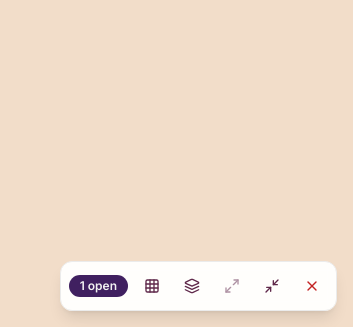
it: CardControlBar › should show stack management dropdown with group options when clicked
This screenshot has width=353, height=327.
Step 1. Click the button titled "manage stacks" → [192, 286], box [176, 270, 208, 302]
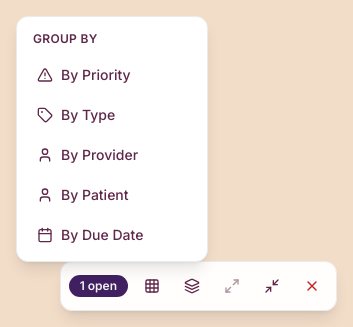
Expected: the button "By Priority" is shown, [25, 57, 199, 93]
Expected: the button "By Type" is shown, [25, 97, 199, 133]
Expected: the button "By Provider" is shown, [25, 137, 199, 173]
